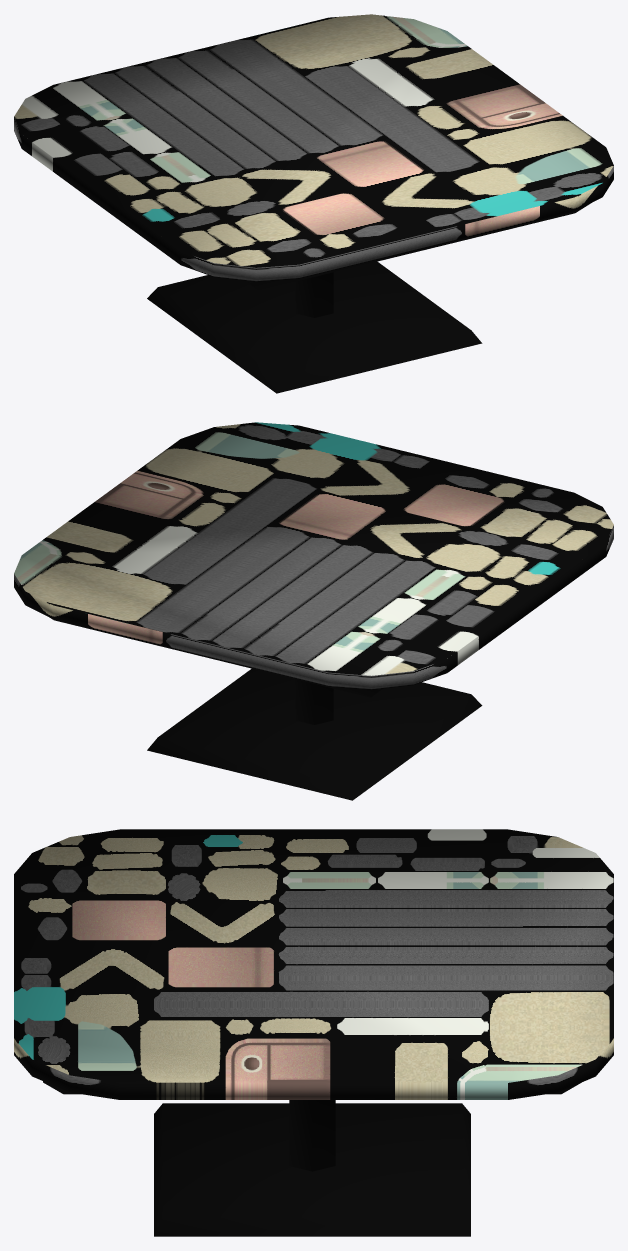
Rendered from Table.fbx.
3 views of the same model, one above another, from view 1: azimuth 30°, elevation 25°; view 2: azimuth 150°, elevation 25°; view 3: azimuth 270°, elevation 25° (orthographic). The views are drawn at different scales.
Parts seen in each view (by area): view 1: Table_LOD0; view 2: Table_LOD0; view 3: Table_LOD0.
Part boxes in pixels (x1,y1,x2,y2): Table_LOD0: (14,14,613,393); Table_LOD0: (14,422,613,800); Table_LOD0: (14,829,613,1236).
Size of what is drawn, in the model's own units: 179 by 71.98 by 179.
